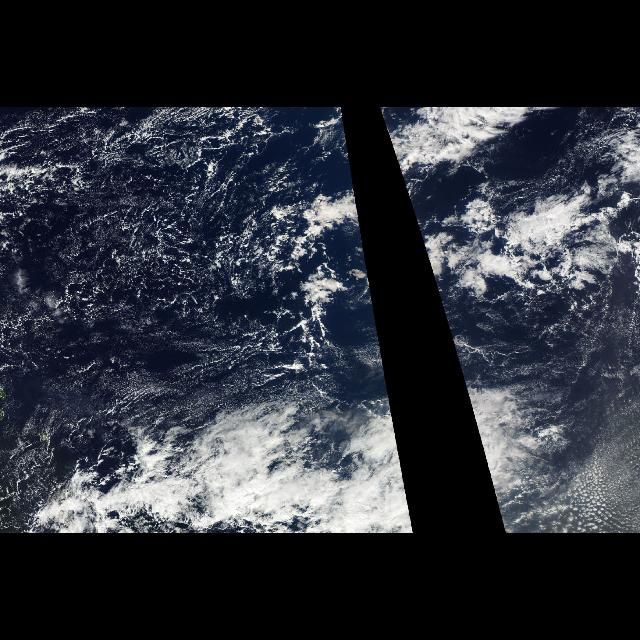Flower: (454, 175, 620, 327)
Gravel: (2, 113, 296, 327)
Sugar: (0, 108, 338, 432), (538, 311, 640, 531)
